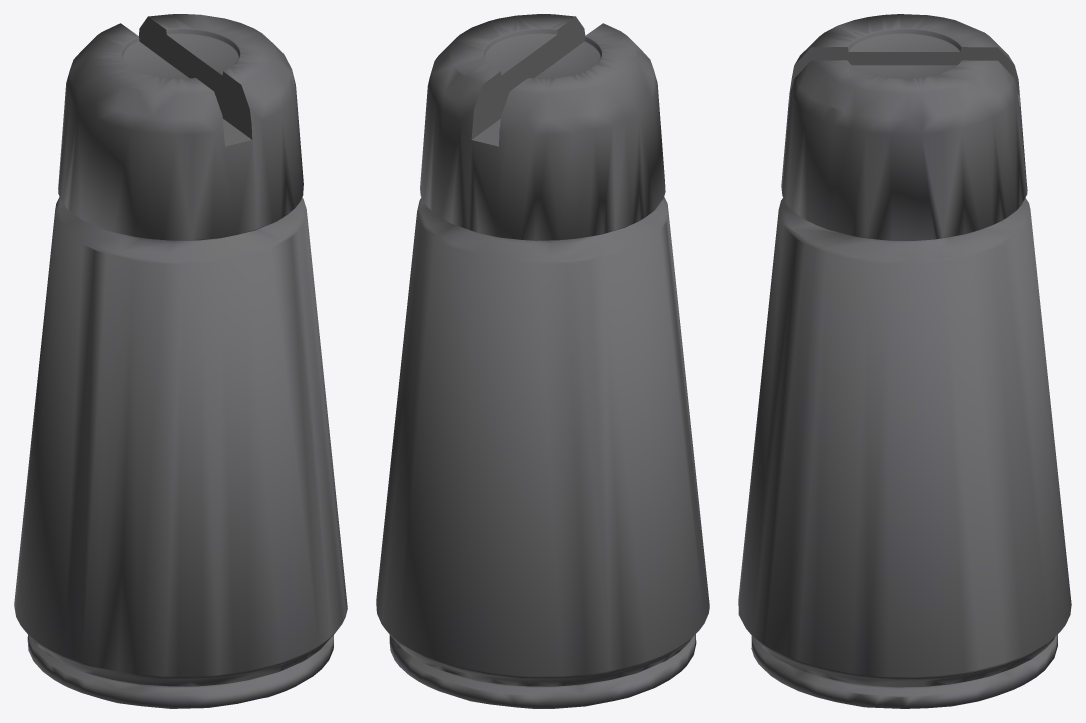
Rendered from 05_vez_cerna.glb.
3 renders of one model, left to right at view 1: azimuth 30°, elevation 25°; view 2: azimuth 150°, elevation 25°; view 3: azimuth 270°, elevation 25°, orthographic.
Visible parts, largest first — view 1: 05_vez_cerna; view 2: 05_vez_cerna; view 3: 05_vez_cerna.
Boxes of the visible parts, x1,y1,x2,y2 form: 05_vez_cerna: (14,14,347,708); 05_vez_cerna: (376,14,709,708); 05_vez_cerna: (738,14,1071,708).
Size of the model in its own units: 0.035 by 0.0684 by 0.0349.
1 material, 1 textured.
